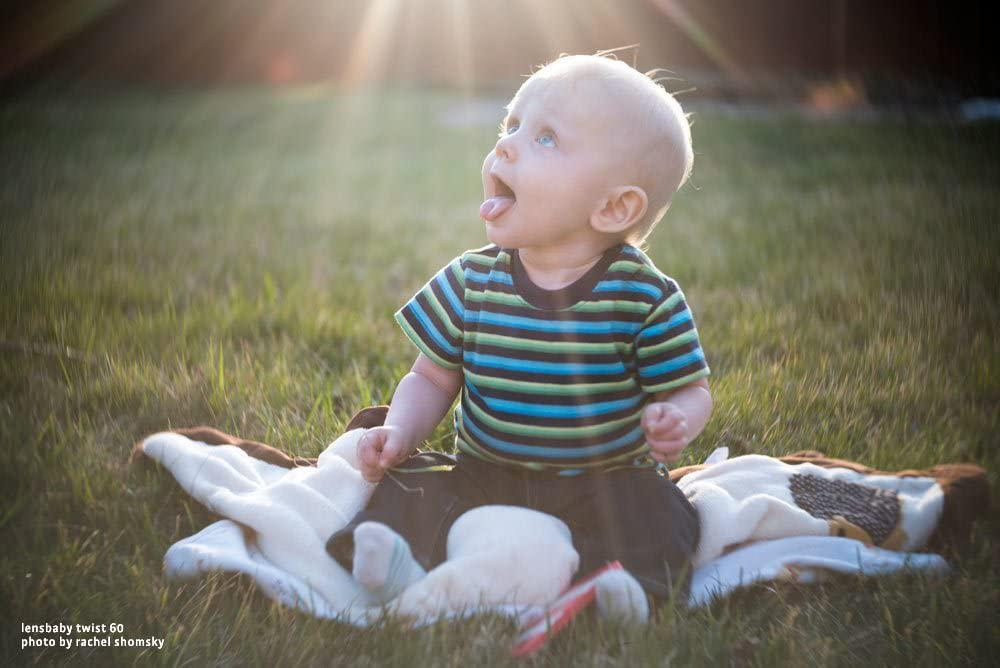child: (321, 34, 733, 610)
